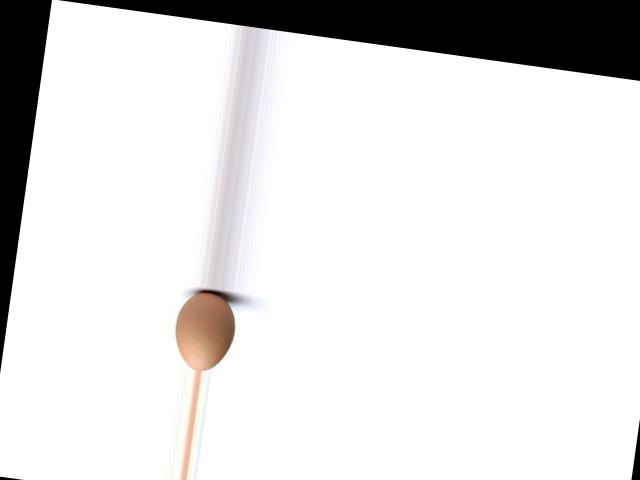egg: (169, 287, 239, 374)
